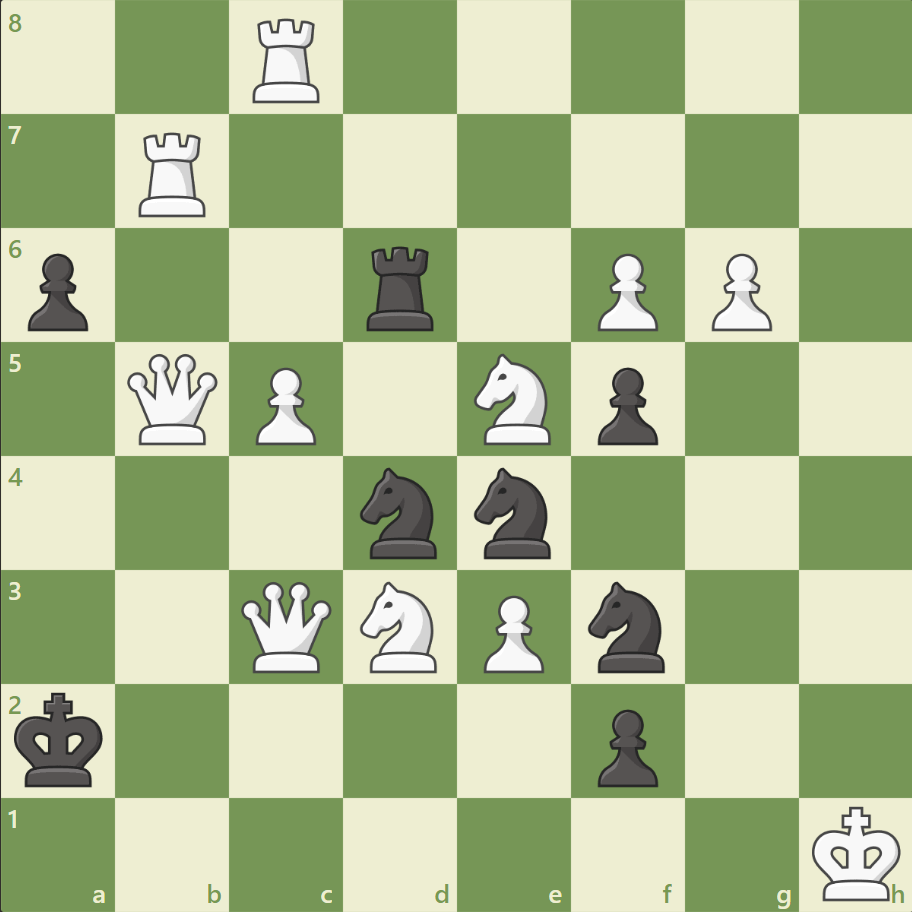K: (806, 798, 906, 906)
N: (351, 575, 449, 677), (465, 348, 562, 450)
P: (701, 246, 776, 337), (247, 359, 322, 450), (474, 586, 549, 677), (588, 246, 662, 337)
Q: (124, 349, 223, 449), (237, 576, 336, 676)
R: (246, 12, 329, 109), (133, 125, 215, 222)
k: (11, 685, 111, 793)
n: (351, 461, 449, 564), (465, 461, 562, 564), (579, 575, 676, 677)
p: (20, 246, 95, 337), (588, 359, 662, 450), (588, 700, 662, 791)
r: (360, 239, 442, 336)
